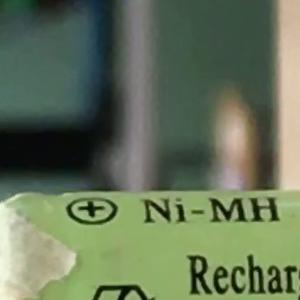NI-MH: (133, 187, 289, 233)
